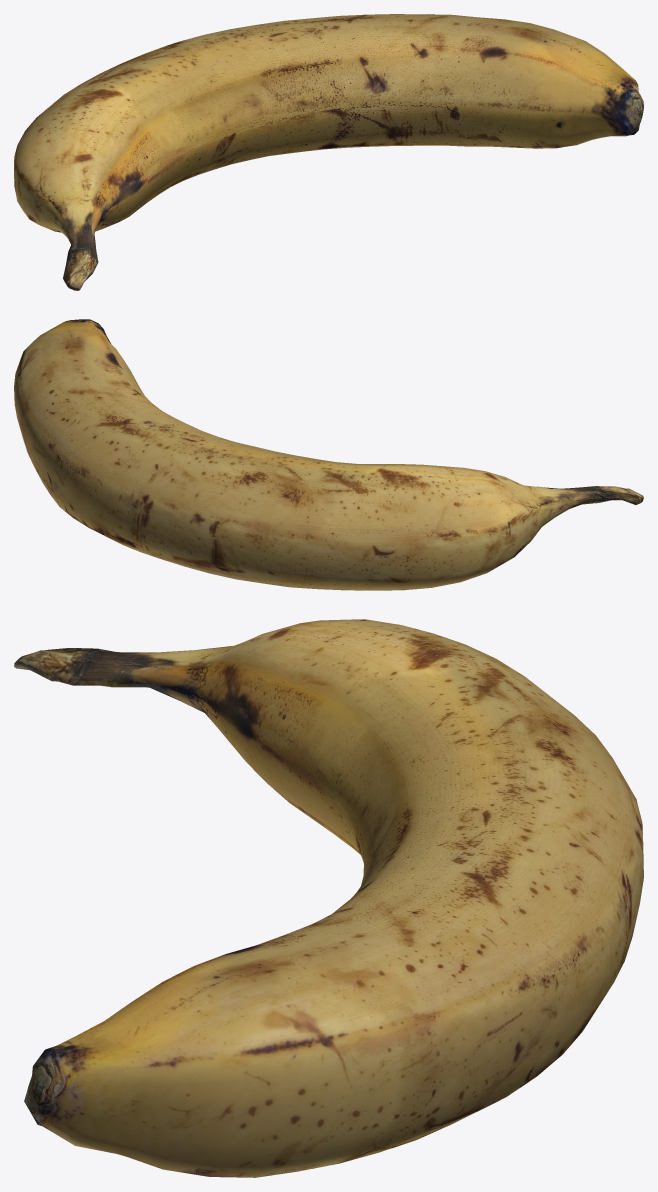
The picture shows the model from 3 angles, top to bottom: view 1: azimuth 30°, elevation 25°; view 2: azimuth 150°, elevation 25°; view 3: azimuth 270°, elevation 25°; orthographic projection. The views are drawn at different scales.
Parts seen in each view (by area): view 1: low poly; view 2: low poly; view 3: low poly.
Part boxes in pixels (bbox=[...]): low poly: bbox=[14, 14, 643, 290]; low poly: bbox=[14, 319, 643, 590]; low poly: bbox=[14, 619, 643, 1177].
Bounding box in the file's own units: 303 × 59.23 × 160.
1 material, 1 textured.
